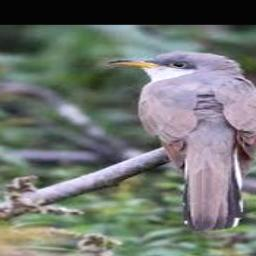Cuckoo: (108, 50, 256, 230)
